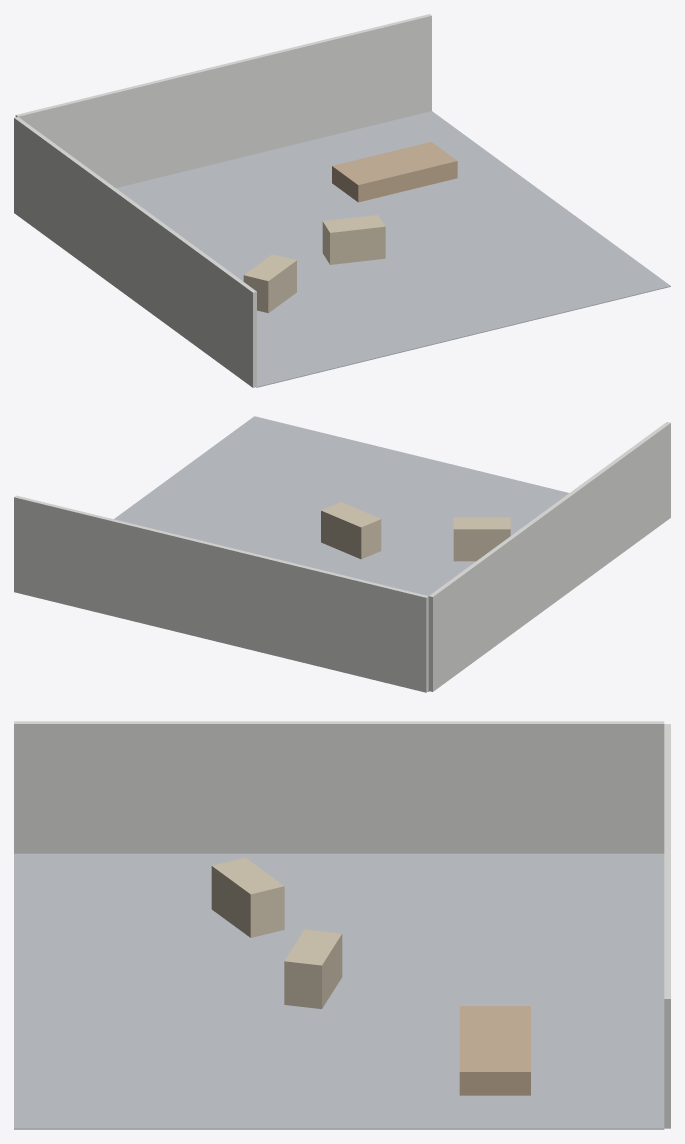
The model's file is scene-demo.gltf.
3 views of the same model, one above another, from view 1: azimuth 30°, elevation 25°; view 2: azimuth 150°, elevation 25°; view 3: azimuth 270°, elevation 25° (orthographic). The views are drawn at different scales.
Visible parts, largest first — view 1: floor, wall-back, wall-left, podium-1, desk-2, desk-1; view 2: wall-back, floor, wall-left, desk-2, desk-1; view 3: floor, wall-left, podium-1, desk-1, desk-2, wall-back.
Boxes of the visible parts, bbox=[...] form: floor: bbox=[116, 111, 670, 387]; wall-back: bbox=[15, 14, 431, 187]; wall-left: bbox=[14, 117, 256, 387]; podium-1: bbox=[332, 141, 457, 202]; desk-2: bbox=[322, 215, 385, 264]; desk-1: bbox=[243, 254, 296, 313]; wall-back: bbox=[14, 495, 428, 692]; floor: bbox=[114, 416, 568, 691]; wall-left: bbox=[428, 422, 670, 691]; desk-2: bbox=[321, 502, 381, 559]; desk-1: bbox=[453, 517, 510, 561]; floor: bbox=[14, 853, 664, 1129]; wall-left: bbox=[14, 721, 664, 853]; podium-1: bbox=[459, 1006, 530, 1095]; desk-1: bbox=[211, 857, 284, 937]; desk-2: bbox=[284, 929, 342, 1008]; wall-back: bbox=[664, 724, 670, 1128].
Size of the model in its own units: 10.1 by 2.22 by 10.1.
